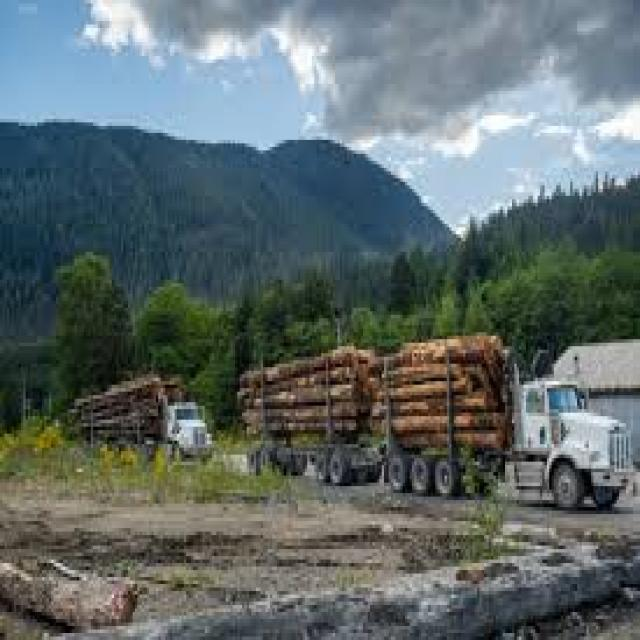Truck: (384, 342, 628, 493), (75, 385, 213, 471)
